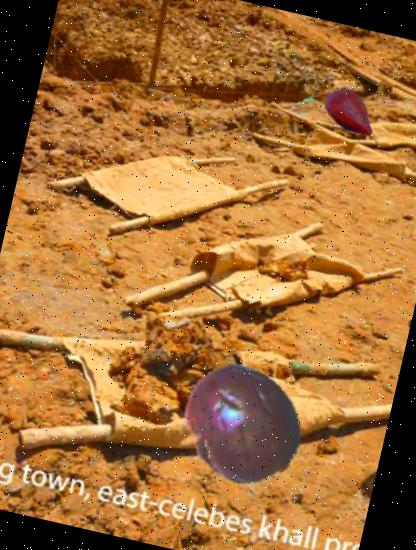Passion: (165, 346, 317, 498)
Salak: (312, 74, 388, 151)
